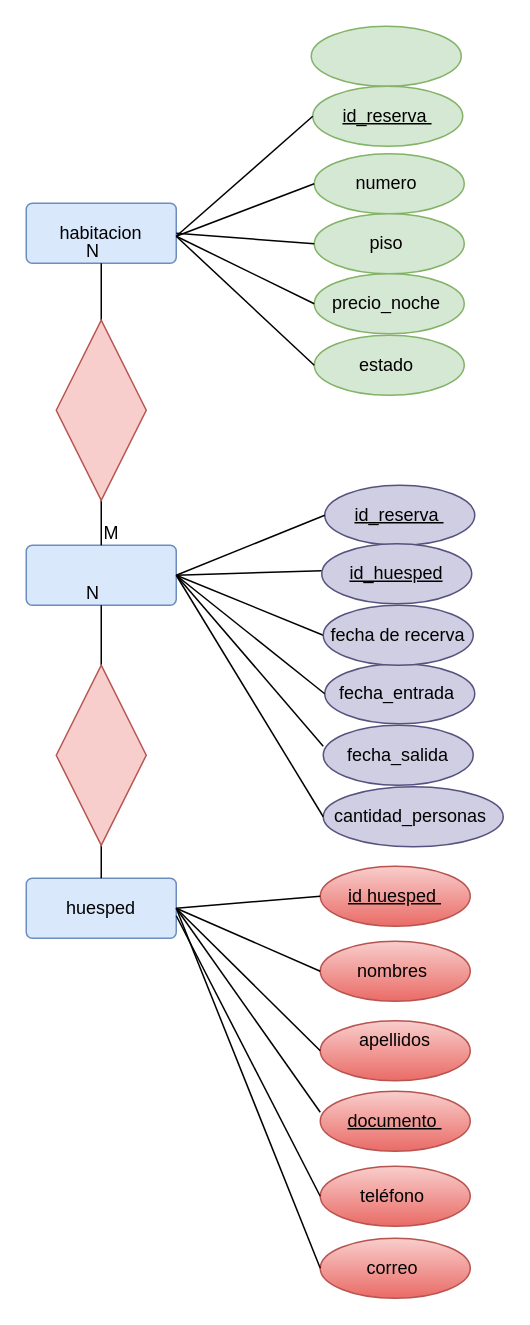
Image size: 530x1325. Some labels were removed from this diagram. Here are the shapes that lost their labels. From the top down, the box of each, then its label:
(310, 25, 461, 86): id_habitacion
(55, 319, 146, 500): acquiere
(25, 544, 176, 605): recerva
(55, 664, 146, 845): realiza
